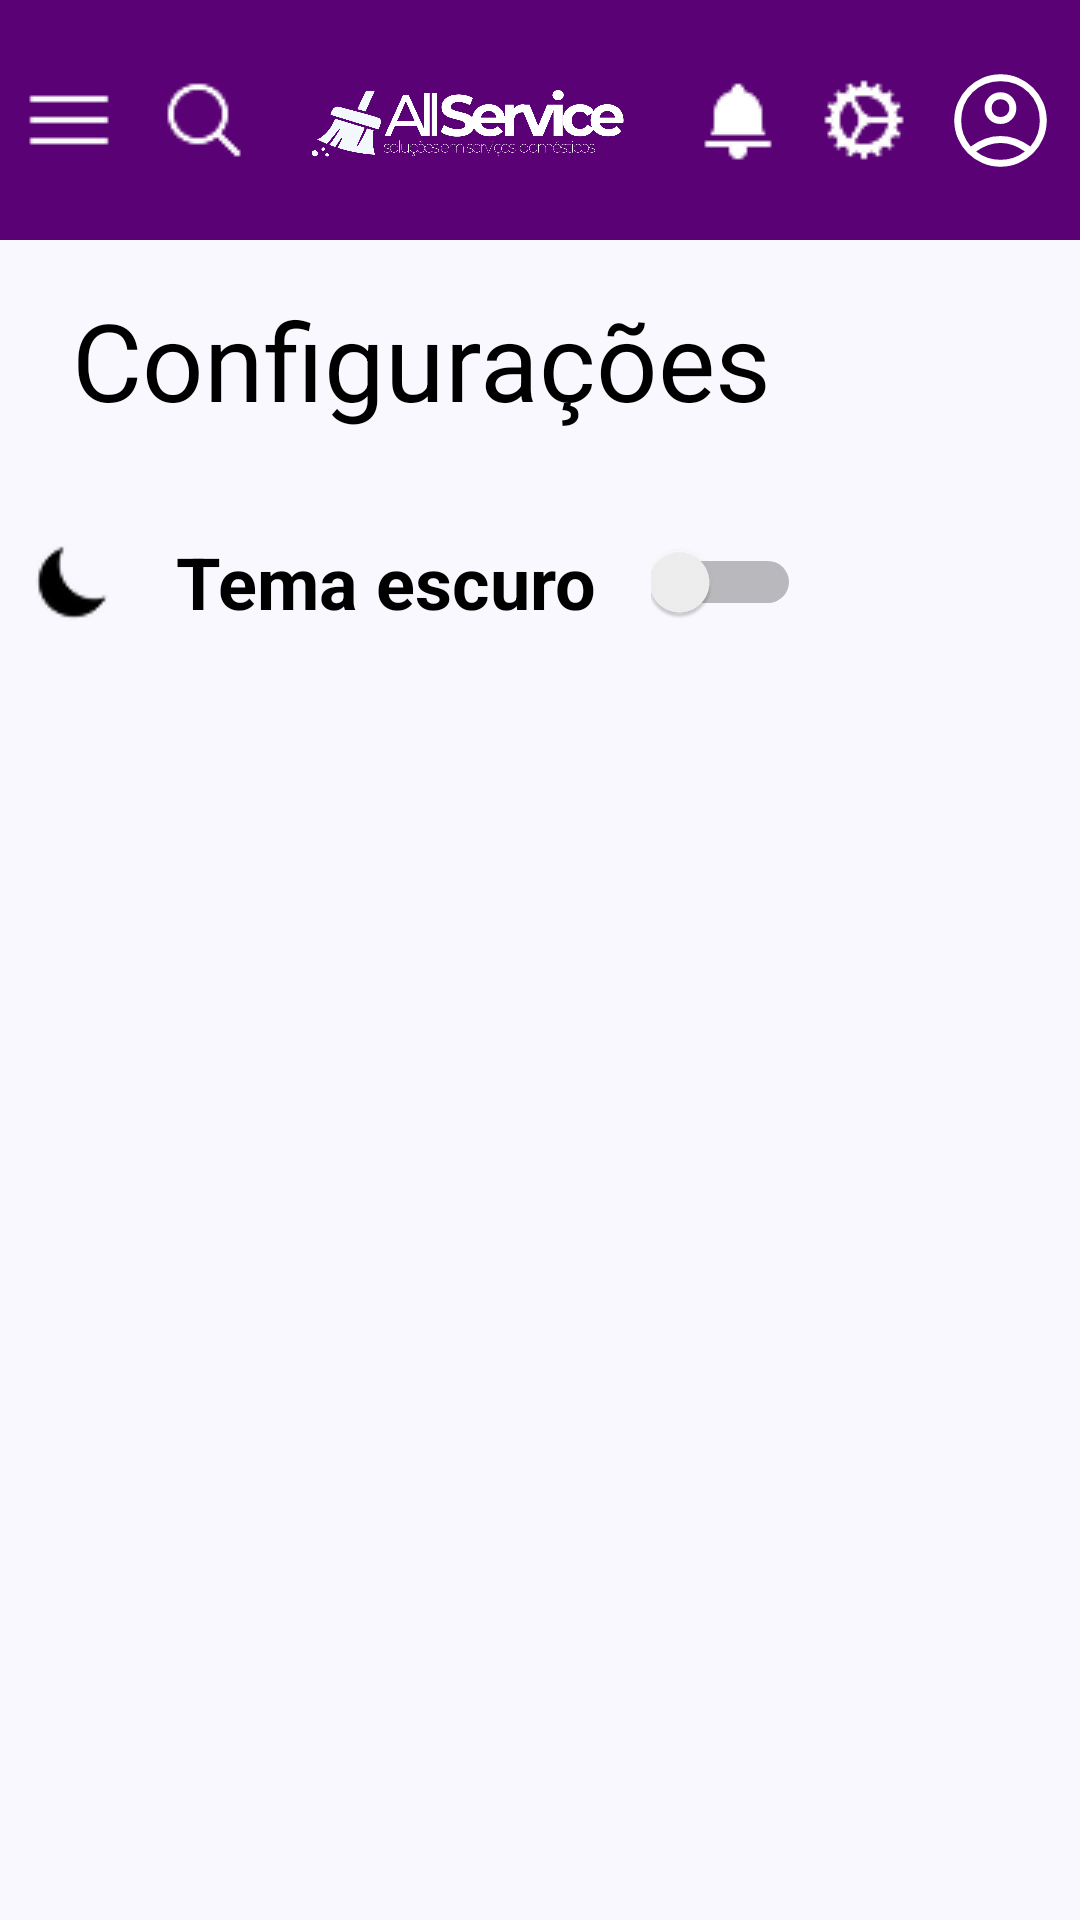

Icon bounding boxes for this 1080×1920 phone screenshot, format (x1, y1, x2, y2):
menu: (29, 95, 109, 145)
moon: (38, 546, 106, 618)
notification: (704, 83, 772, 160)
person: (954, 74, 1047, 167)
search: (167, 83, 241, 157)
settings: (824, 80, 904, 160)
